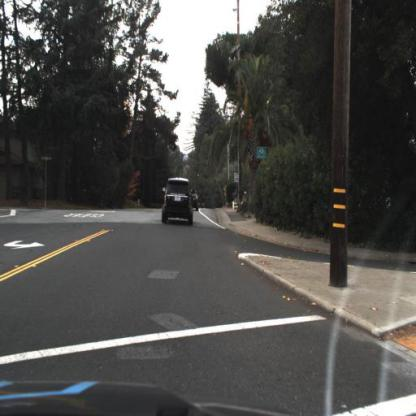car: (161, 174, 196, 230), (188, 187, 201, 214)
